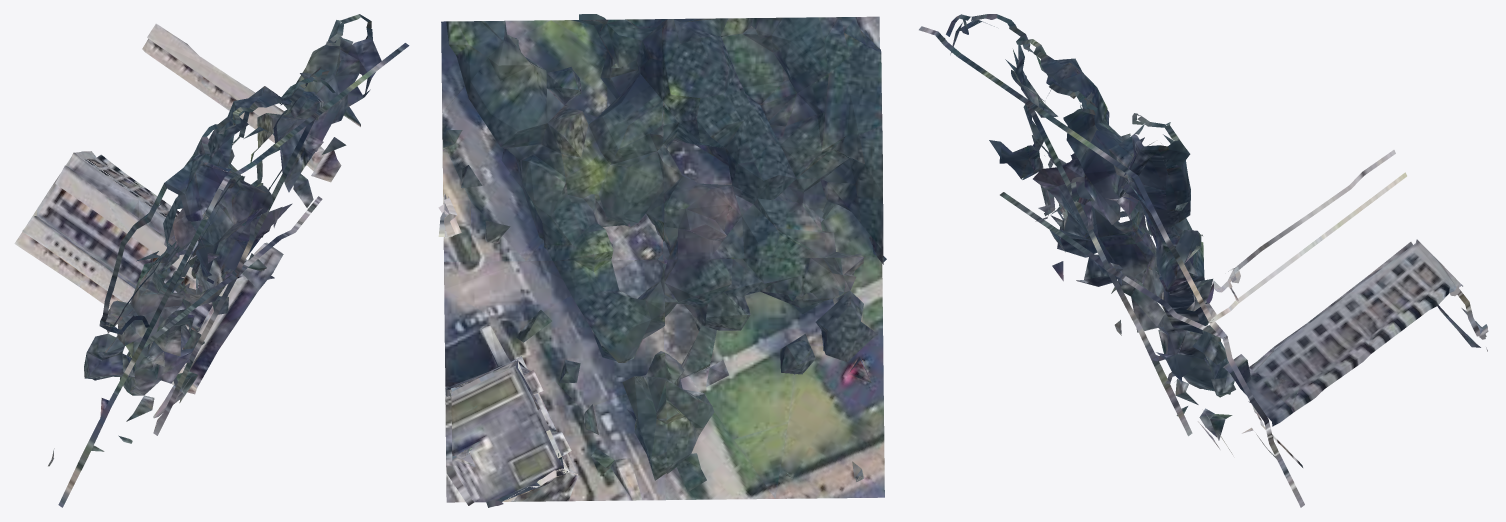
The picture shows the model from 3 angles, left to right: view 1: azimuth 30°, elevation 25°; view 2: azimuth 150°, elevation 25°; view 3: azimuth 270°, elevation 25°; orthographic projection. The views are drawn at different scales.
Size of the model in its own units: 76.38 by 74.31 by 96.02.
Materials: 1 (1 with a texture image).
